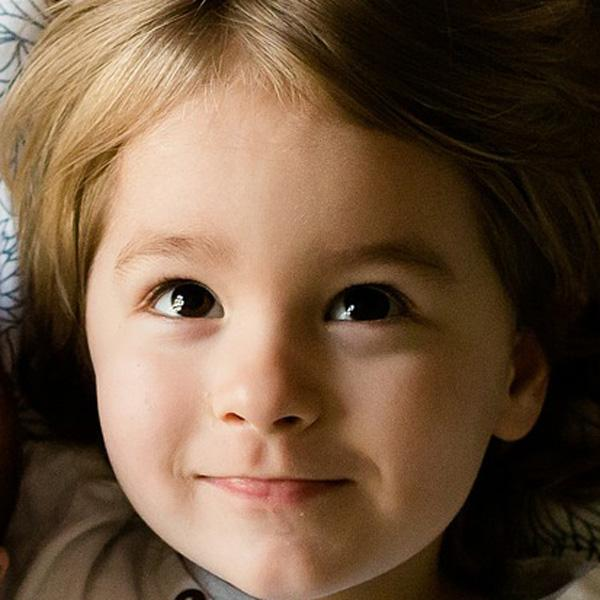Eyes: (312, 268, 418, 339), (129, 264, 233, 332)
